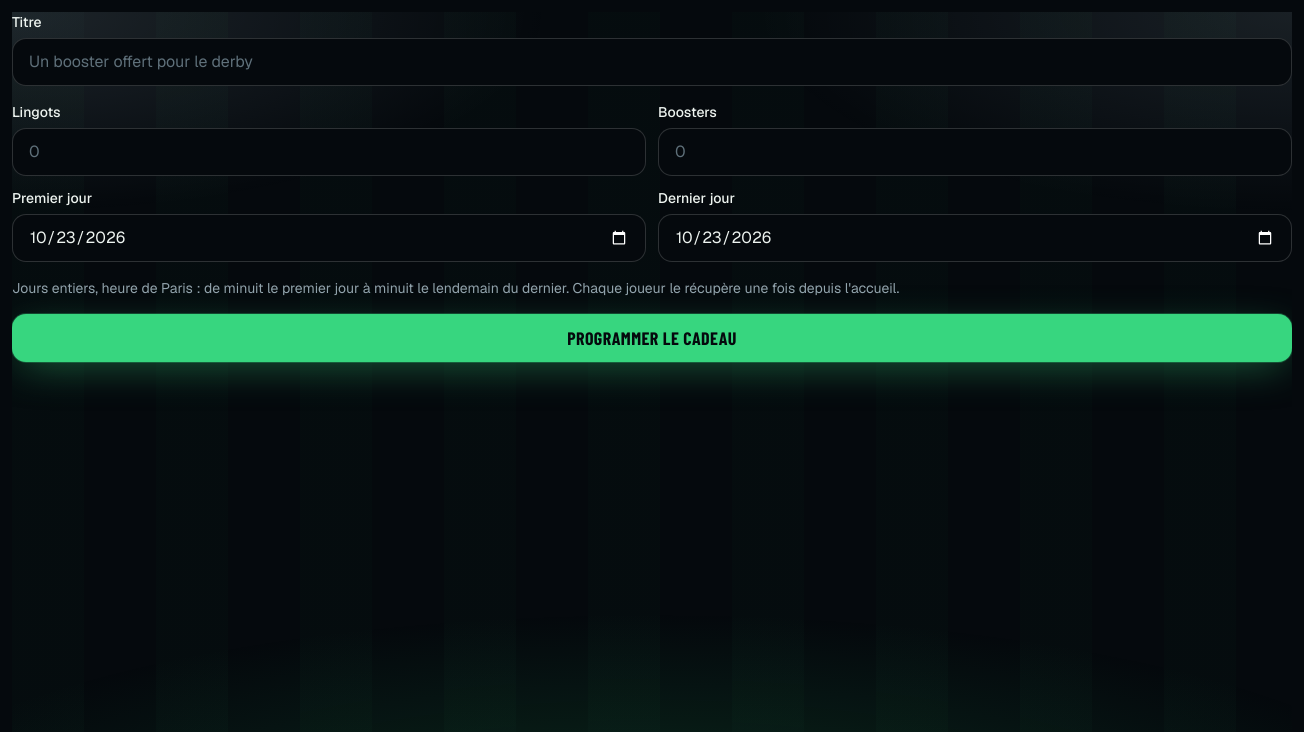
formulaires d'administration › programme un cadeau, sur la journée du jour par défaut
The width and height of the screenshot is (1304, 732).
Expected: the date field labelled "Premier jour" holds "2026-10-23", [12,214,646,262]
Expected: the date field labelled "Dernier jour" holds "2026-10-23", [658,214,1292,262]
Type "Un" into the field labelled "Titre" at point(652, 62), box [12,38,1292,86]
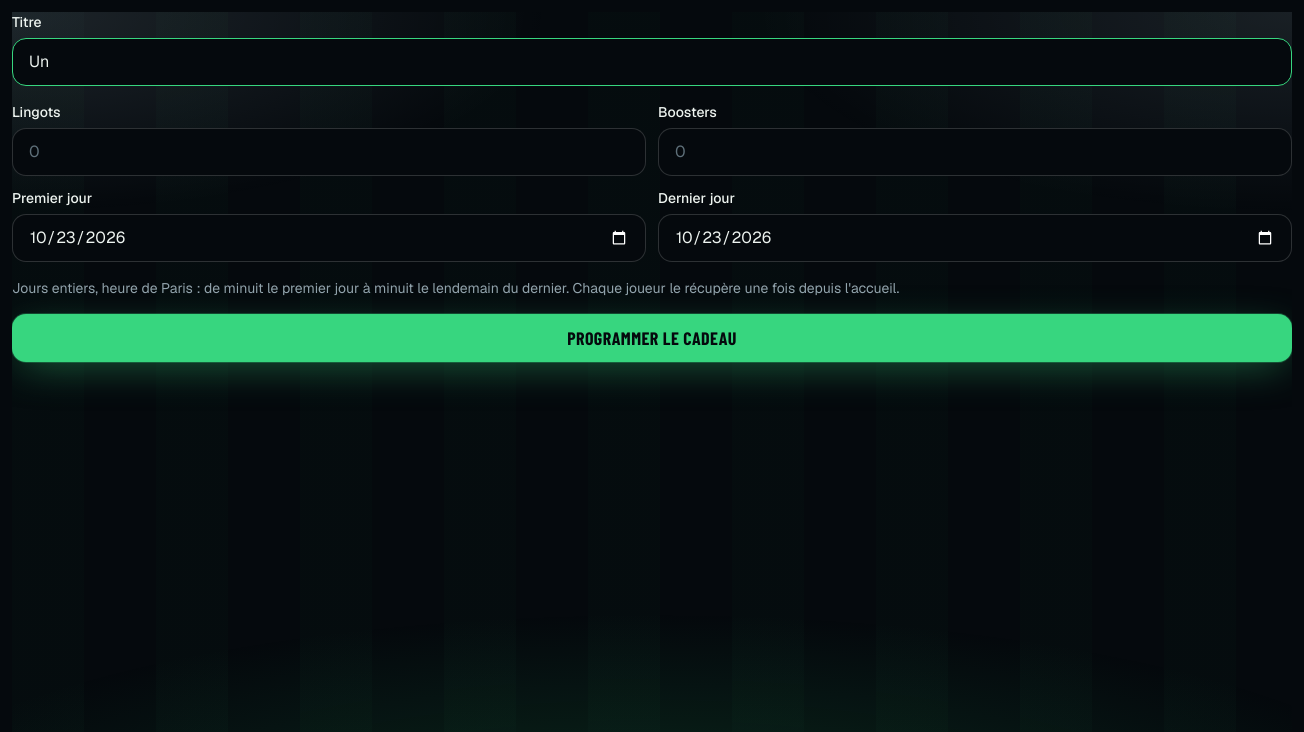
Click the button "Programmer le cadeau" at point(652, 338), box [12,314,1292,362]
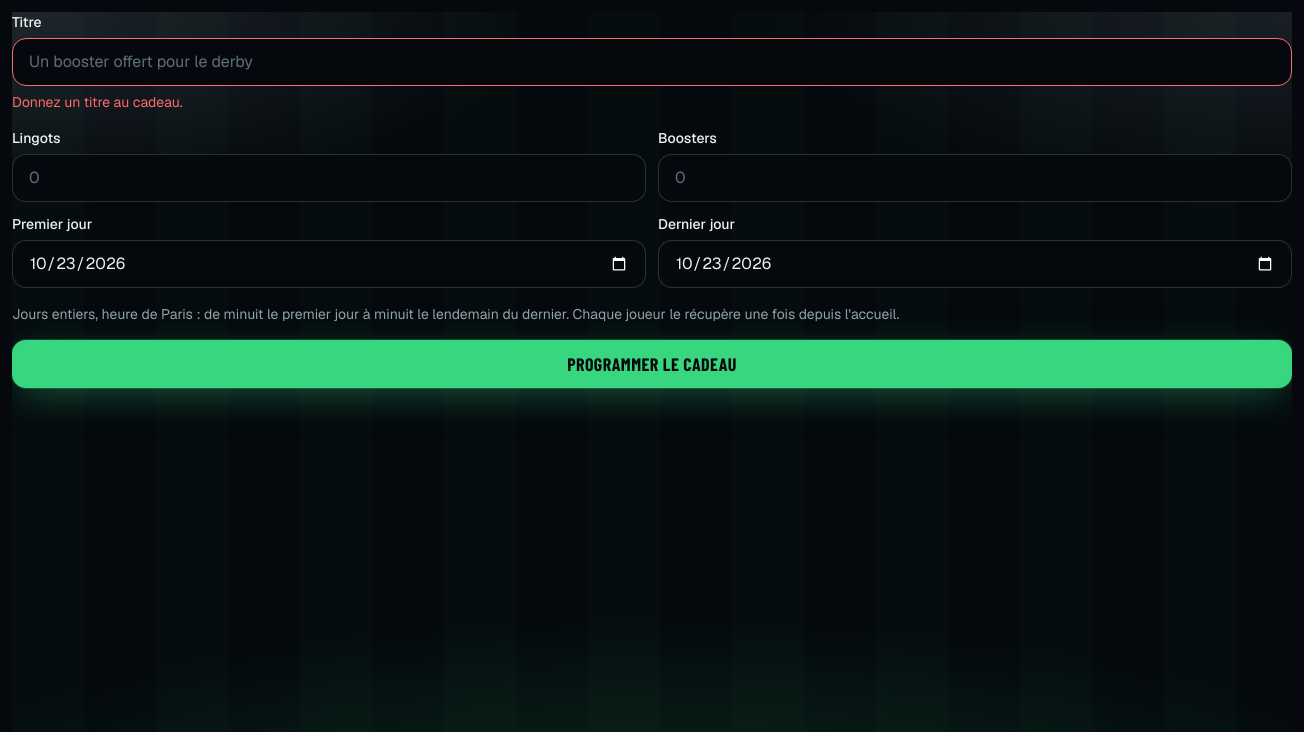
Expected: the text "Donnez un titre au cadeau." is shown, [12,93,183,111]
